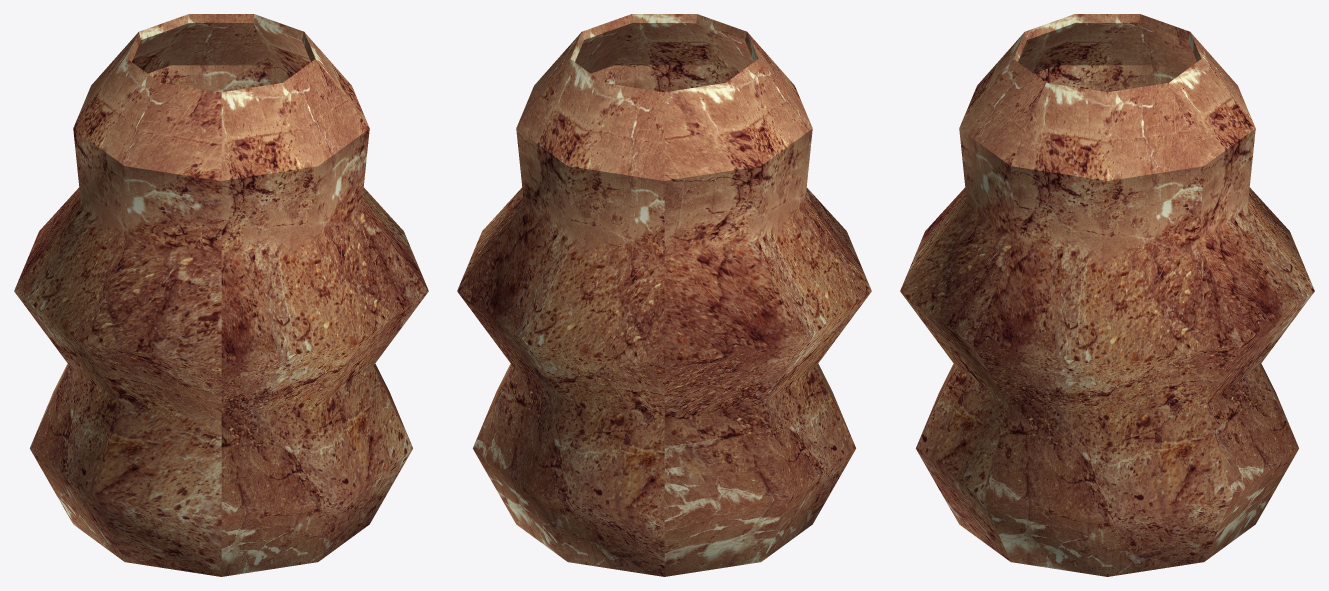
The model's file is pot3.FBX.
3 renders of one model, left to right at view 1: azimuth 30°, elevation 25°; view 2: azimuth 150°, elevation 25°; view 3: azimuth 270°, elevation 25°, orthographic.
Visible parts, largest first — view 1: pot3; view 2: pot3; view 3: pot3.
Boxes of the visible parts, <box> form: pot3: <box>14,14,428,576</box>; pot3: <box>457,14,871,576</box>; pot3: <box>900,14,1314,576</box>.
Size of the model in its own units: 27.01 by 33.66 by 27.42.
Materials: 1 (1 with a texture image).
